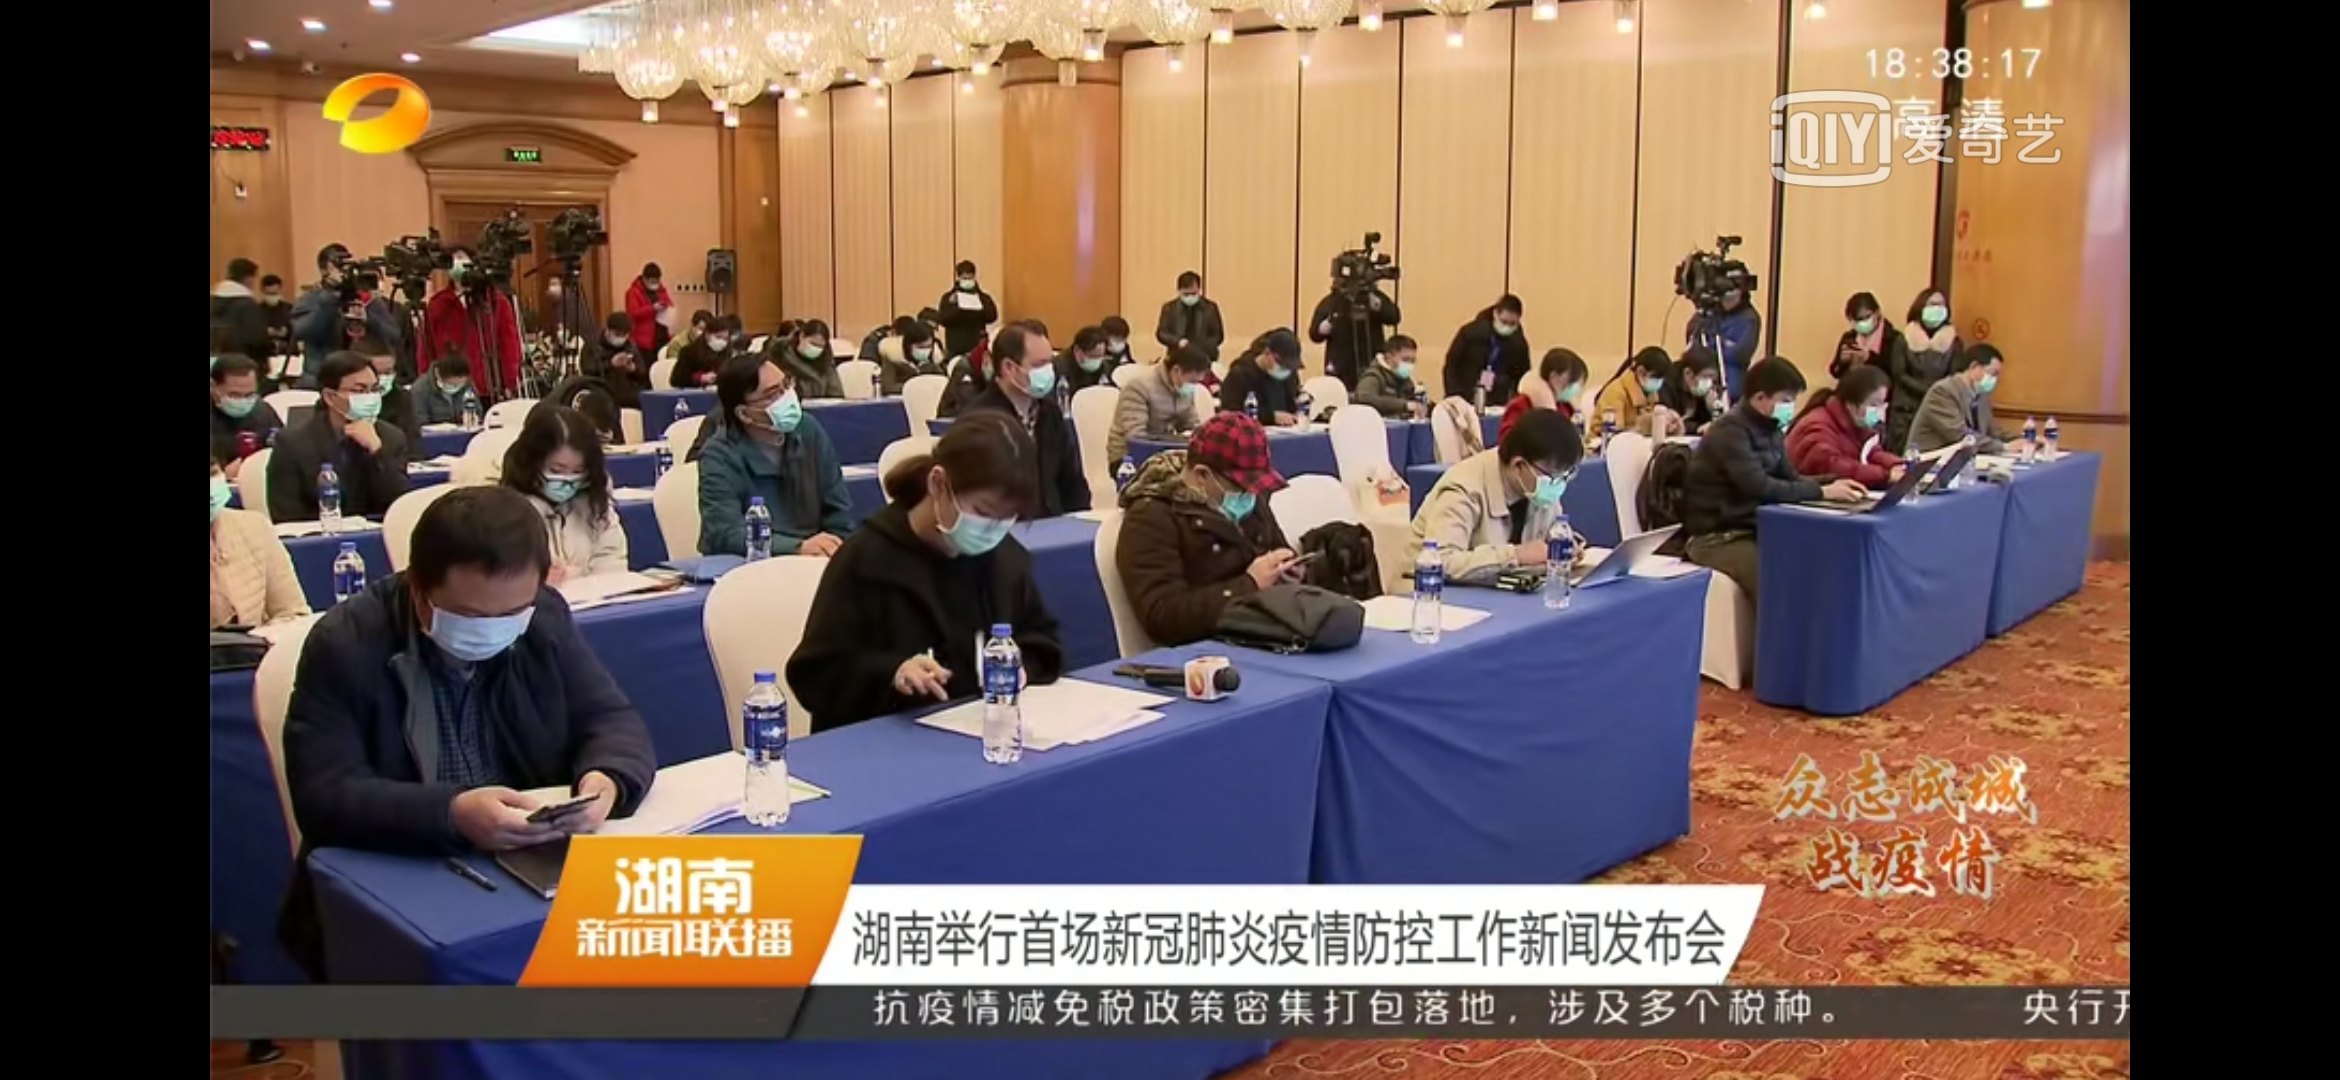correctlyWear: (407, 568, 548, 665), (927, 477, 1021, 567), (742, 377, 809, 439), (1195, 465, 1260, 521), (1510, 456, 1577, 509), (324, 373, 385, 425), (998, 352, 1057, 406), (539, 455, 592, 512), (212, 373, 261, 421), (1749, 385, 1798, 427), (212, 455, 237, 531), (1846, 395, 1888, 427), (1968, 361, 2001, 397), (1683, 365, 1718, 398), (1551, 368, 1582, 403), (1922, 295, 1949, 333), (1634, 364, 1665, 394), (1171, 367, 1201, 398), (1386, 351, 1418, 379), (436, 368, 469, 395), (798, 334, 828, 362), (1074, 348, 1104, 376), (1492, 309, 1521, 339), (260, 279, 285, 310), (1851, 310, 1880, 336), (910, 339, 934, 364), (707, 330, 731, 355), (448, 254, 469, 279), (1177, 286, 1201, 307), (957, 271, 977, 292), (607, 324, 627, 345), (645, 269, 663, 291)
